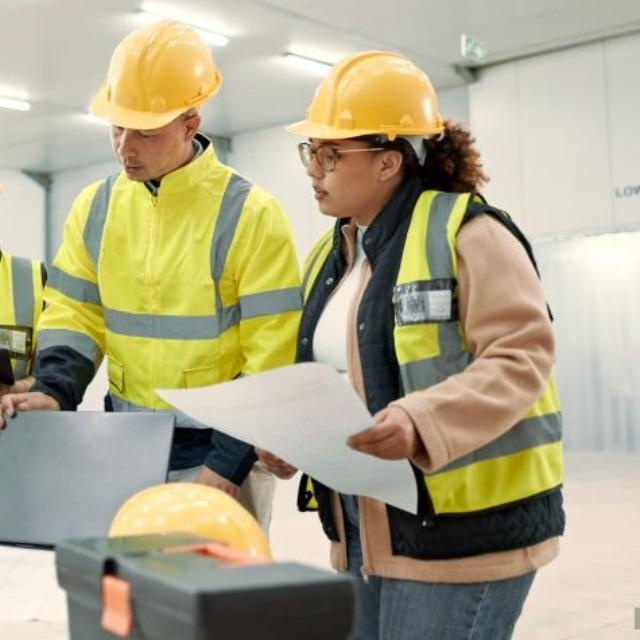Con_Casco: (293, 47, 443, 220), (86, 19, 218, 181)
Con_Chaleco: (300, 194, 560, 518), (64, 173, 274, 427)
